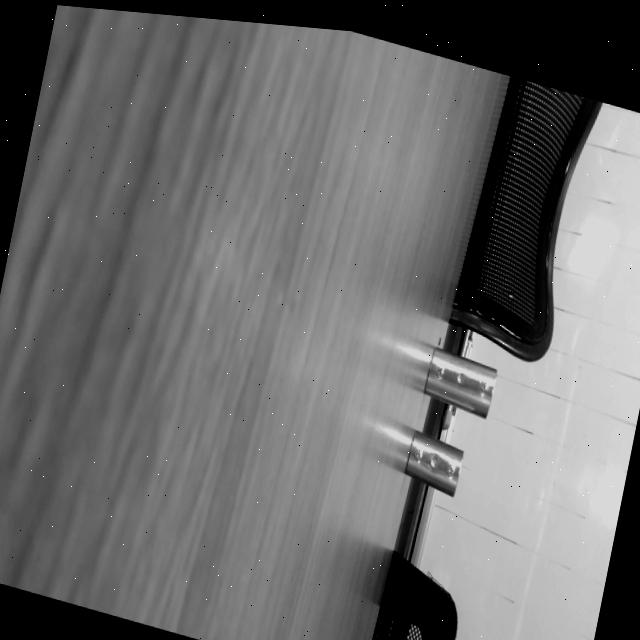Co_Lon: (417, 346, 502, 419)
Co_Nho: (396, 430, 471, 497)
